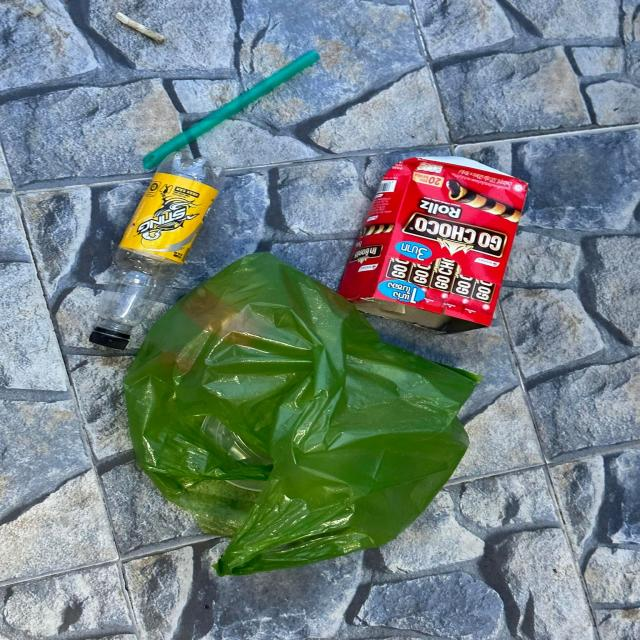bag: (124, 251, 484, 578)
bottle: (90, 152, 226, 350)
cardboard box: (338, 156, 529, 336)
drinking straw: (143, 50, 320, 168)
